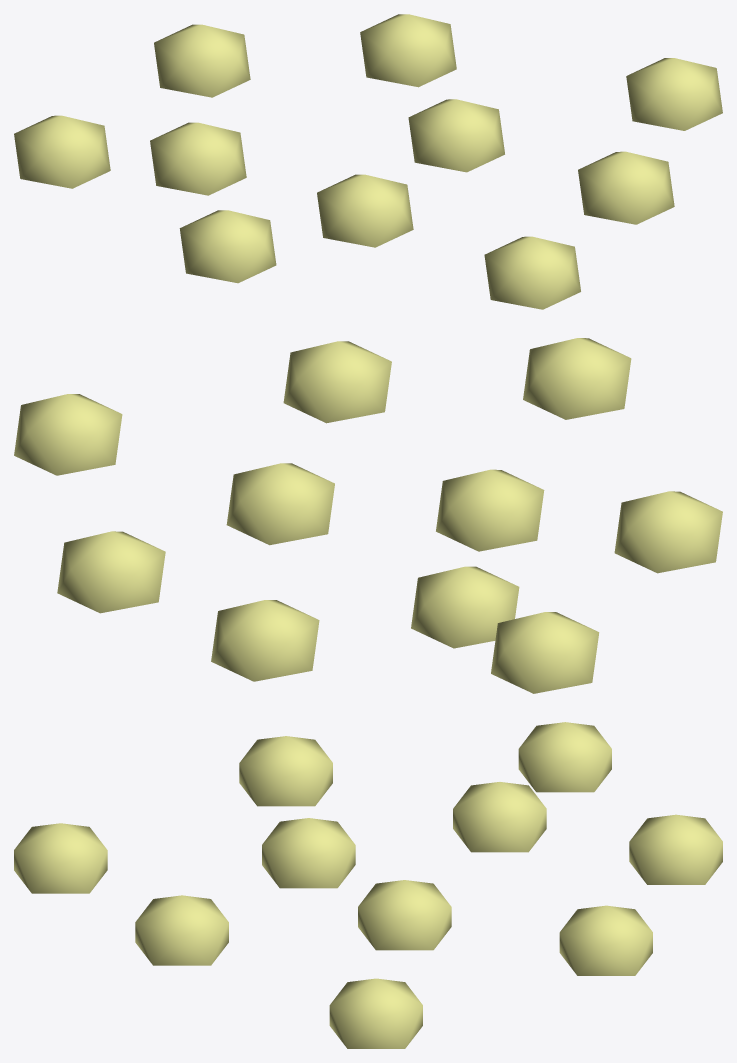
File: Seeds.fbx
3 views of the same model, one above another, from view 1: azimuth 30°, elevation 25°; view 2: azimuth 150°, elevation 25°; view 3: azimuth 270°, elevation 25° (orthographic). The views are drawn at different scales.
Visible parts, largest first — view 1: Seeds; view 2: Seeds; view 3: Seeds.
Boxes of the visible parts, x1,y1,x2,y2 form: Seeds: (14, 14, 722, 309); Seeds: (14, 338, 722, 693); Seeds: (14, 722, 722, 1048).
Size of the model in its own units: 3.41 by 0.3964 by 3.44.
